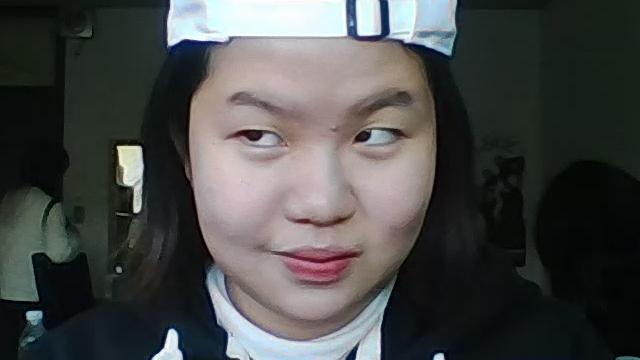eye: (350, 123, 370, 140), (245, 122, 263, 140)
iris: (238, 130, 287, 147), (352, 127, 400, 144)
